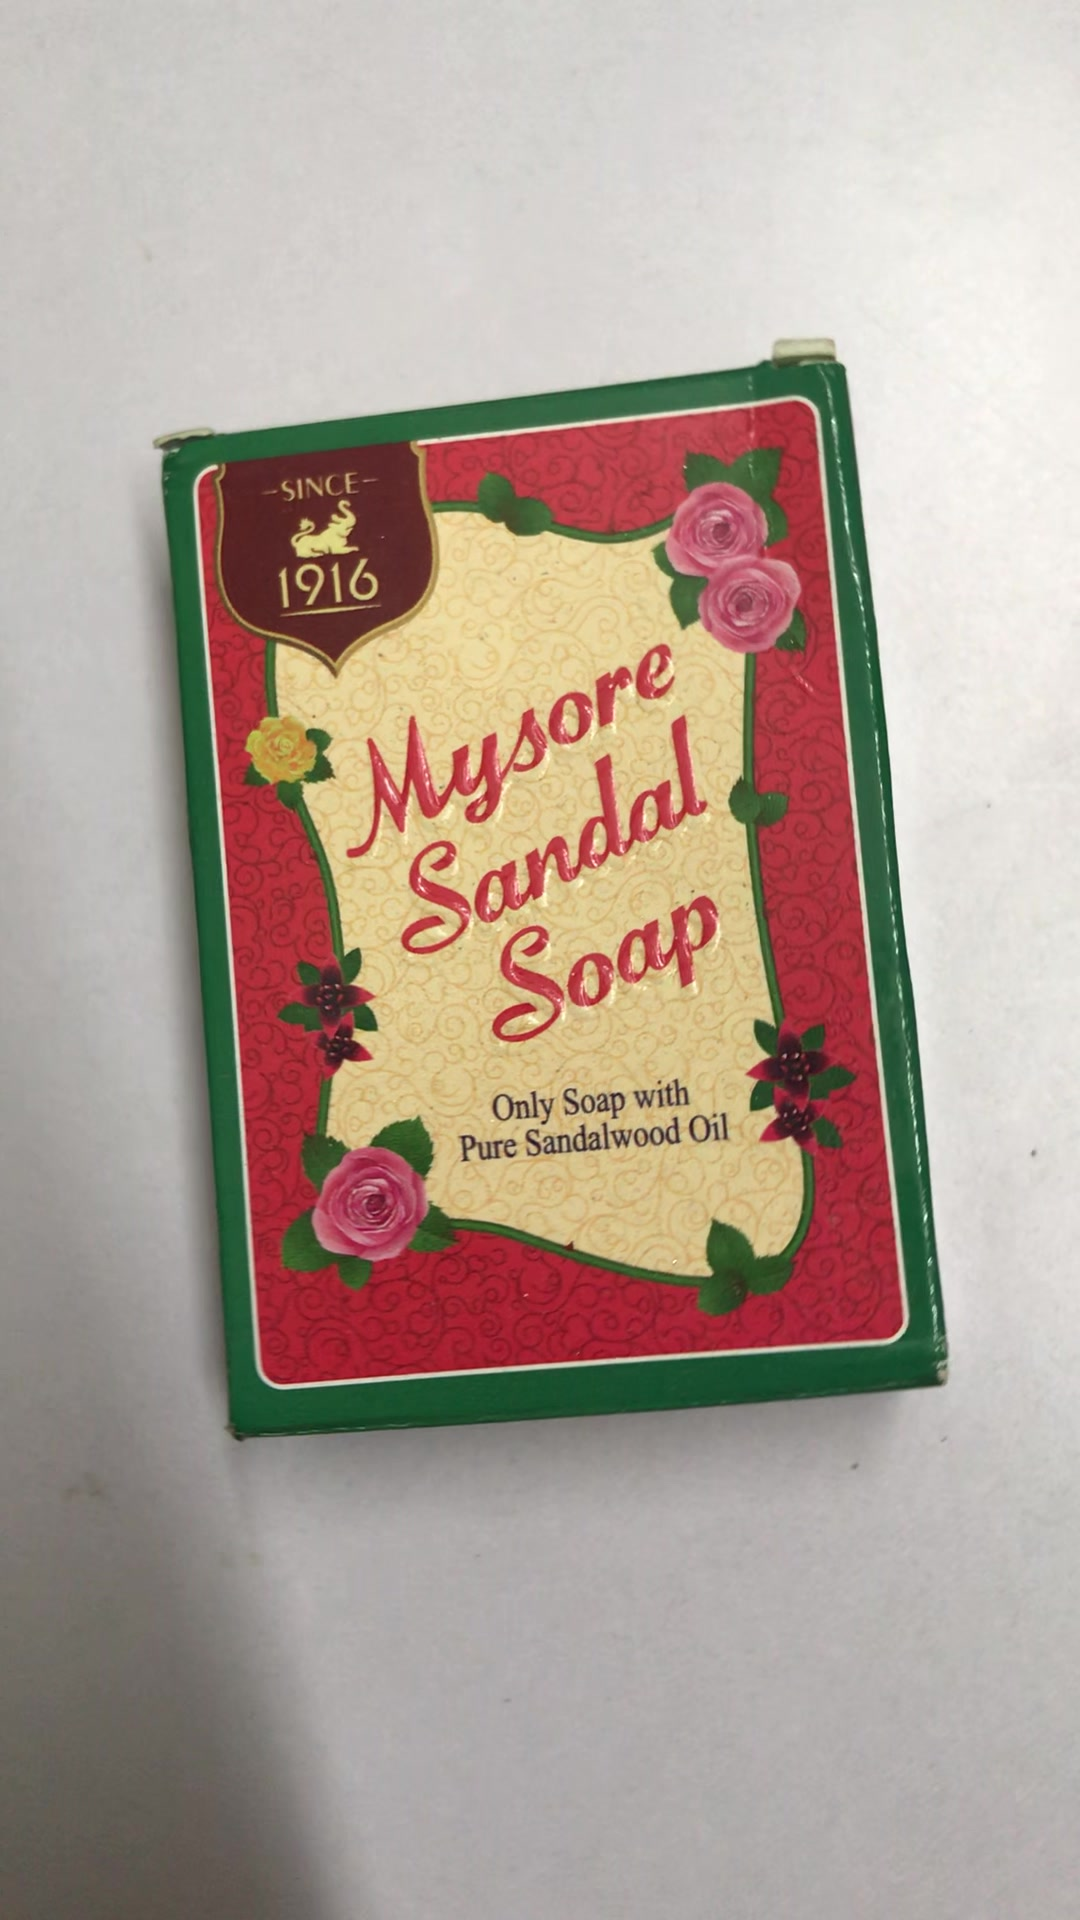mysore sandal soap: (161, 357, 949, 1440)
